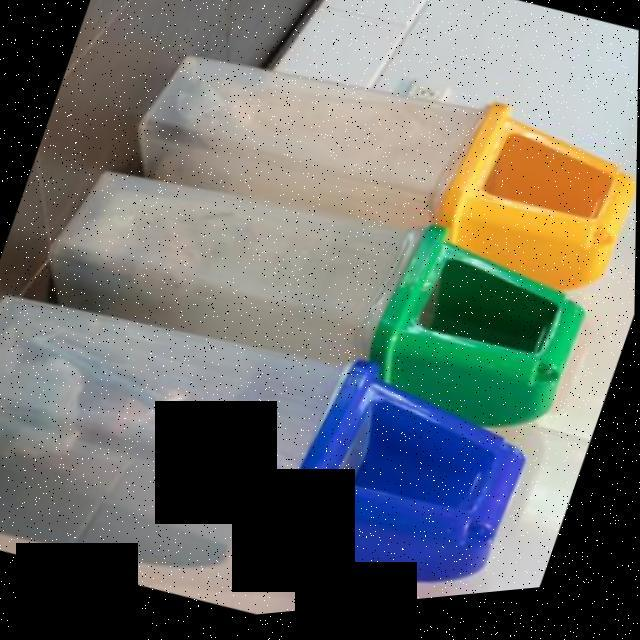bin: (12, 91, 619, 503), (0, 222, 565, 640), (107, 0, 640, 356)
